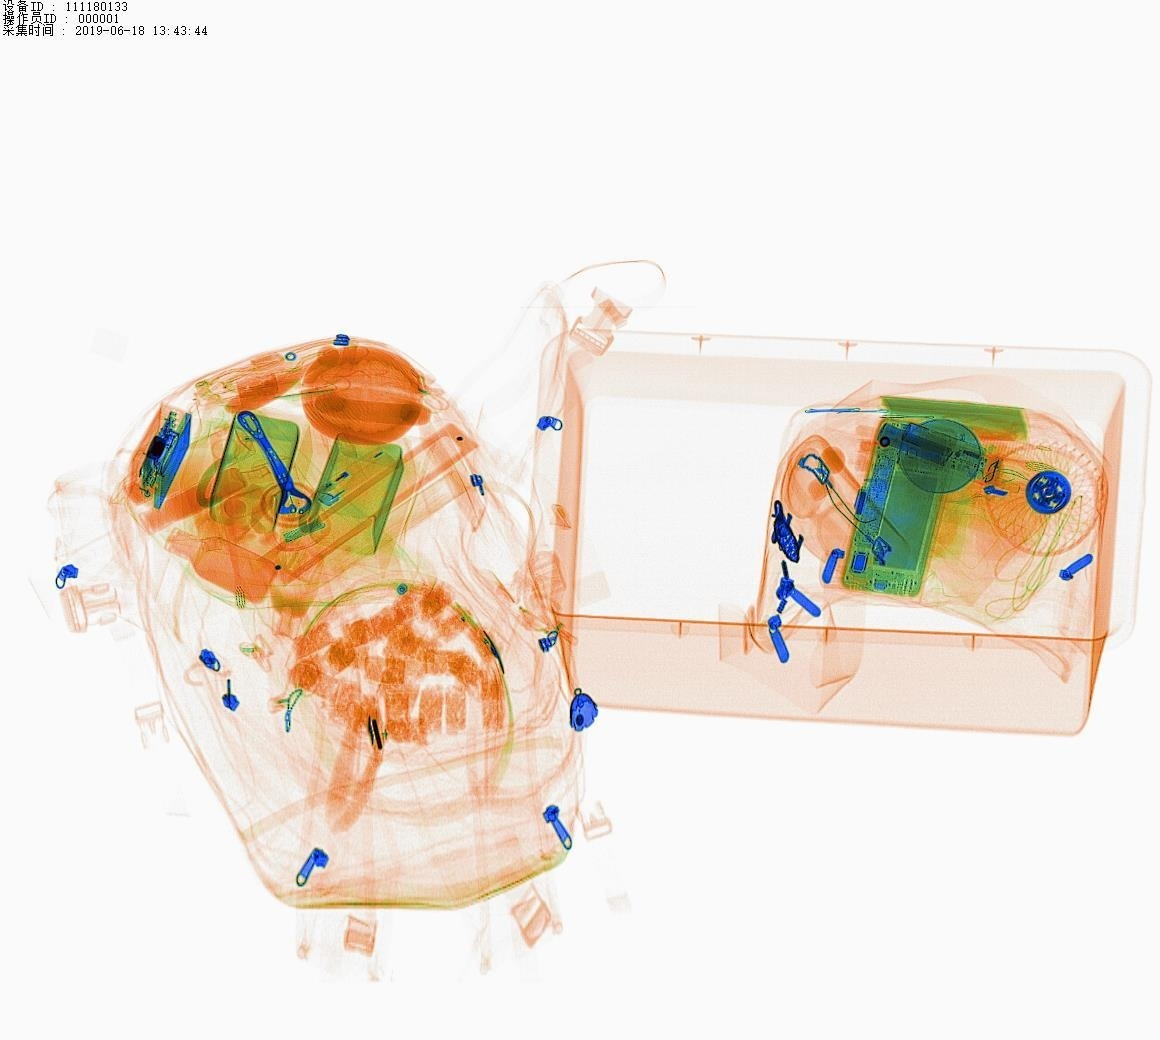NonmetallicFire: (306, 462, 393, 508)
